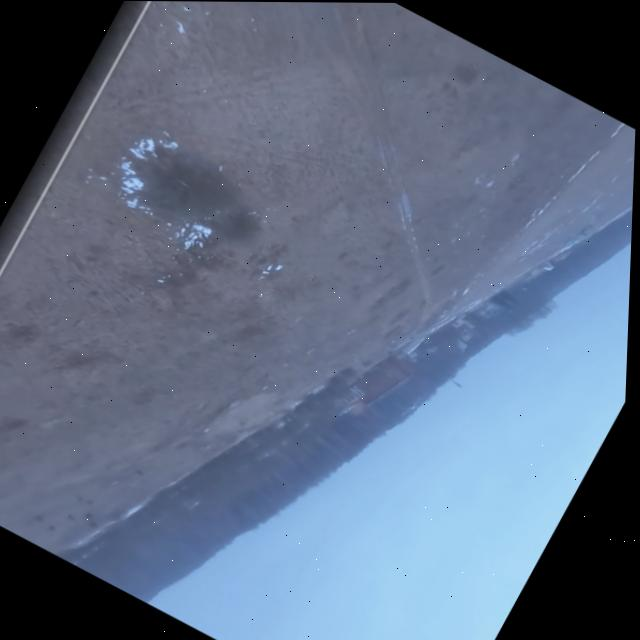planedrone: (401, 391, 424, 419)
